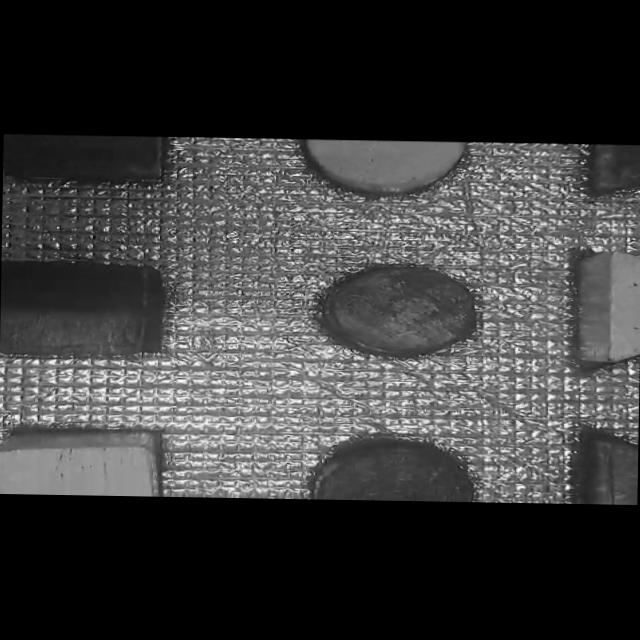bcircle: (266, 435, 493, 506)
bcube: (0, 251, 164, 366)
rcircle: (302, 248, 487, 366)
ycircle: (271, 138, 514, 205)
ycube: (0, 428, 170, 498), (2, 130, 181, 190)
